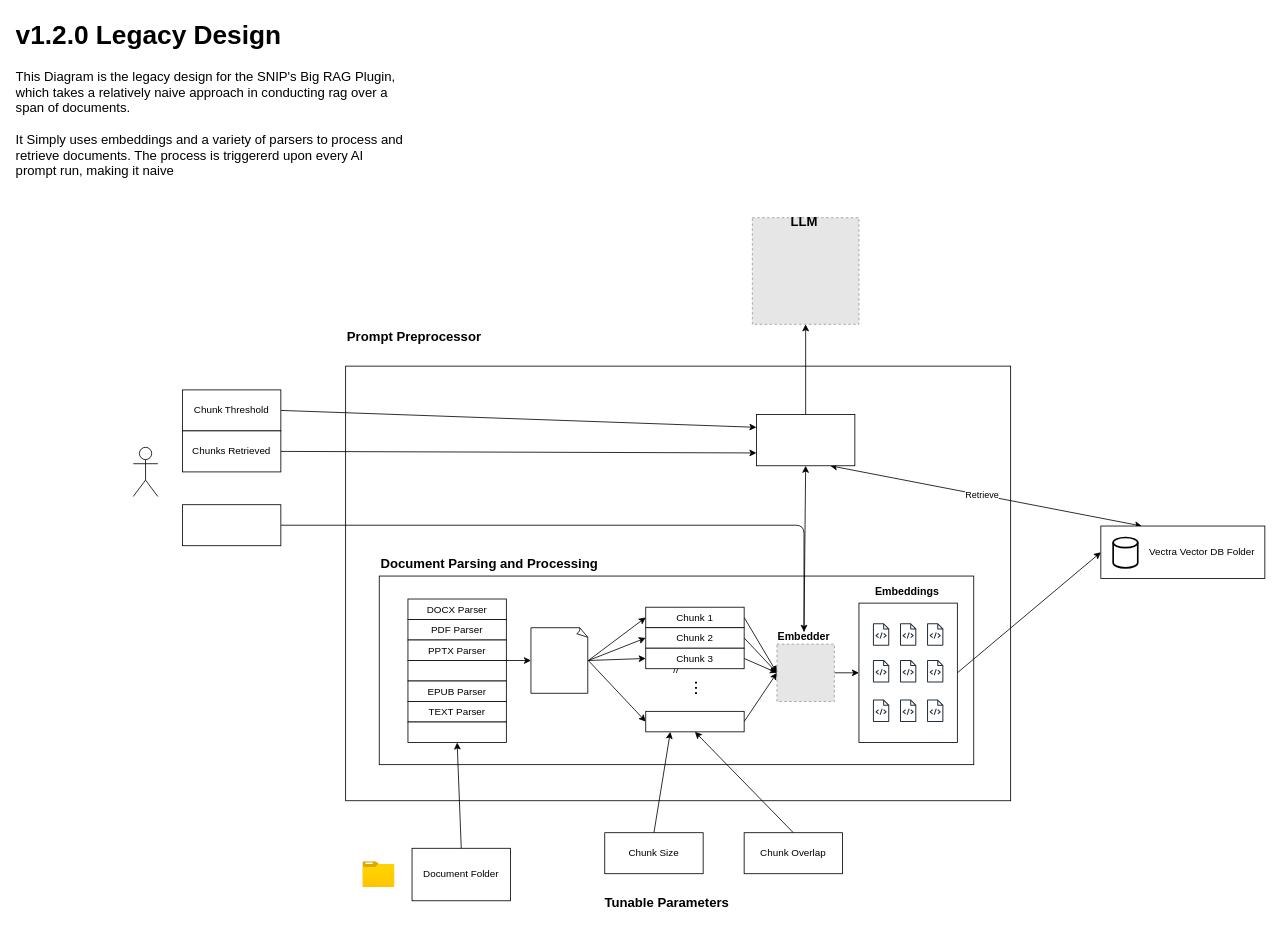
Image size: 1279x928. Some labels were removed from this diagram. Grey dashed boxes stand in for pictures. The centre of each missing label's shape, as x and y in pixels:
"Actor" belongs at [145,471].
"Chunk n" belongs at [694,721].
"HTMLParser" belongs at [456,670].
"MD Parser" belongs at [456,732].
"Raw Text" belongs at [559,660].
"Retriever chuinks using cosine sim" belongs at [805,440].
"User Query" belongs at [231,525].
